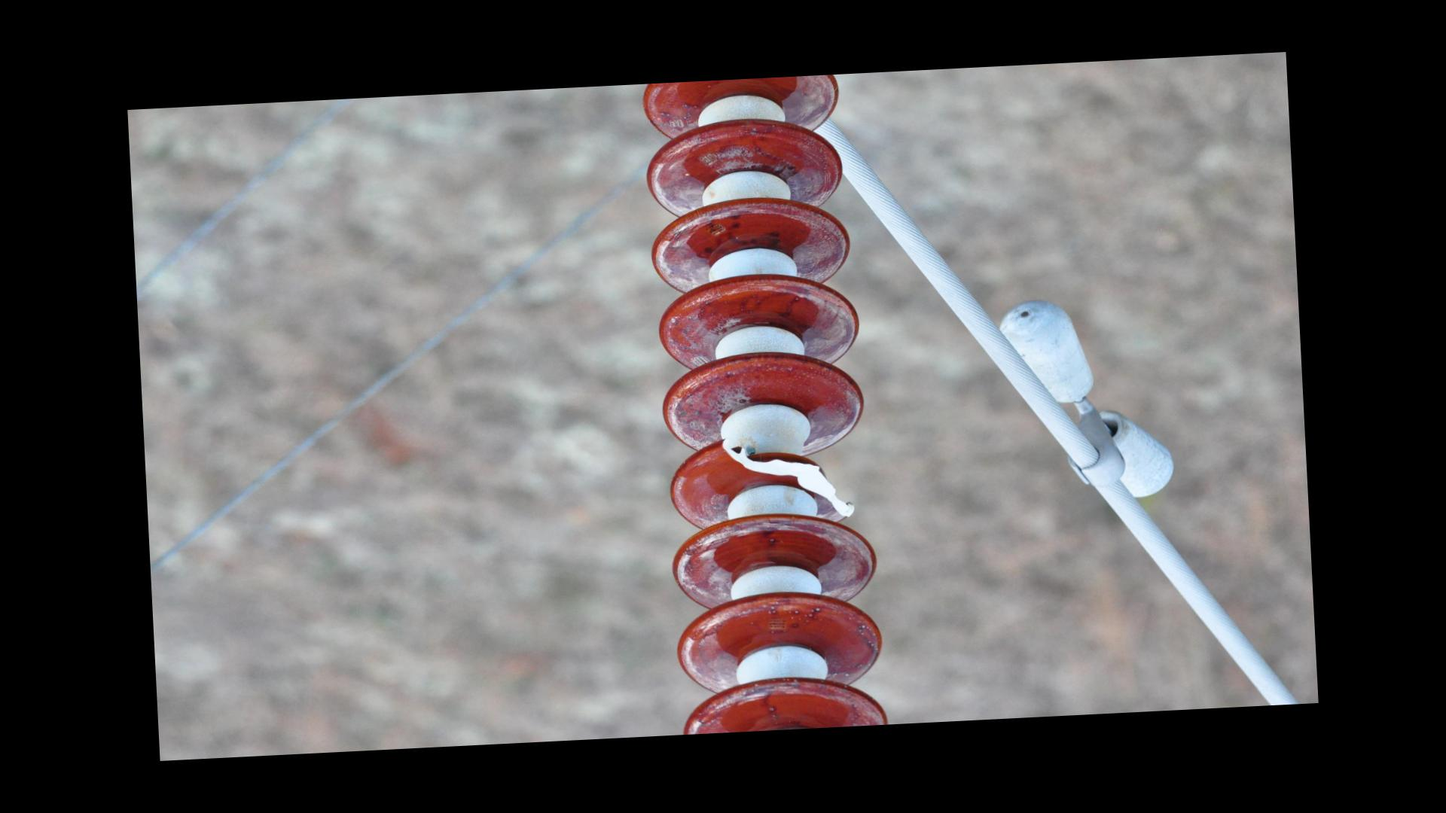damper: (992, 286, 1180, 515)
